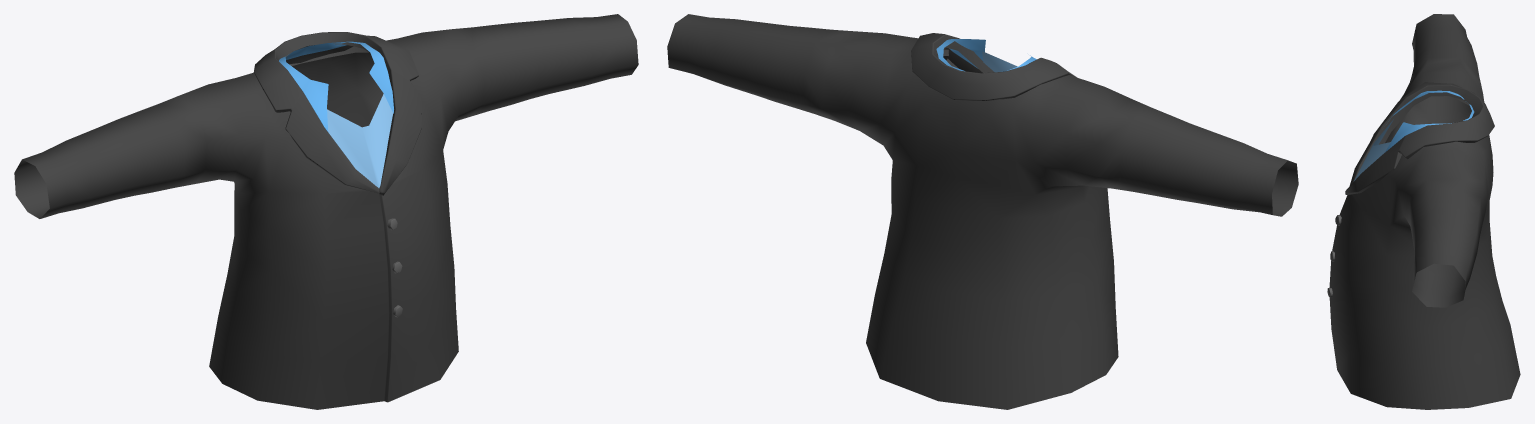
The model's file is Outerwear_Black_010.glb.
3 views of the same model, side by side, from view 1: azimuth 30°, elevation 25°; view 2: azimuth 150°, elevation 25°; view 3: azimuth 270°, elevation 25° (orthographic). The views are drawn at different scales.
Parts seen in each view (by area): view 1: Outerwear_Black_010; view 2: Outerwear_Black_010; view 3: Outerwear_Black_010.
Part boxes in pixels (x1=…): Outerwear_Black_010: x1=14, y1=14, x2=638, y2=409; Outerwear_Black_010: x1=667, y1=14, x2=1298, y2=409; Outerwear_Black_010: x1=1327, y1=14, x2=1520, y2=409.
Bounding box in the file's own units: 1.29 × 0.6483 × 0.4192.
Materials: 1 (1 with a texture image).
